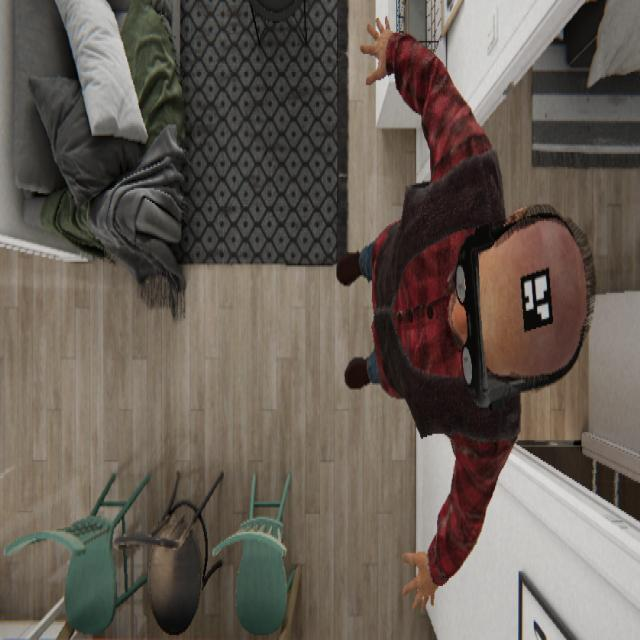AruCO: (518, 264, 554, 332)
Human: (335, 13, 596, 614)
